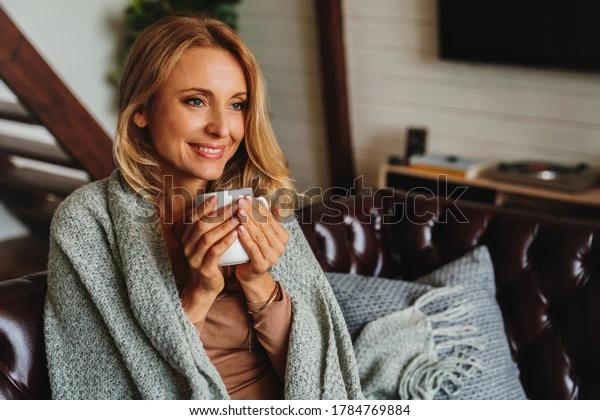blanket: (43, 165, 480, 402)
long sleeve shirt: (150, 187, 295, 402)
